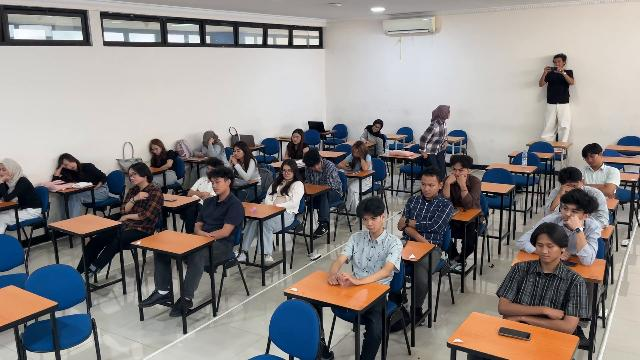bosan: (536, 237, 556, 262), (561, 204, 581, 225), (362, 215, 380, 232), (421, 178, 435, 197), (561, 181, 582, 192), (211, 178, 224, 194), (452, 165, 465, 181), (585, 152, 598, 166), (63, 158, 76, 171), (129, 169, 140, 184), (283, 166, 294, 179), (151, 144, 162, 155), (233, 146, 241, 159), (292, 133, 301, 144), (353, 148, 360, 158)
